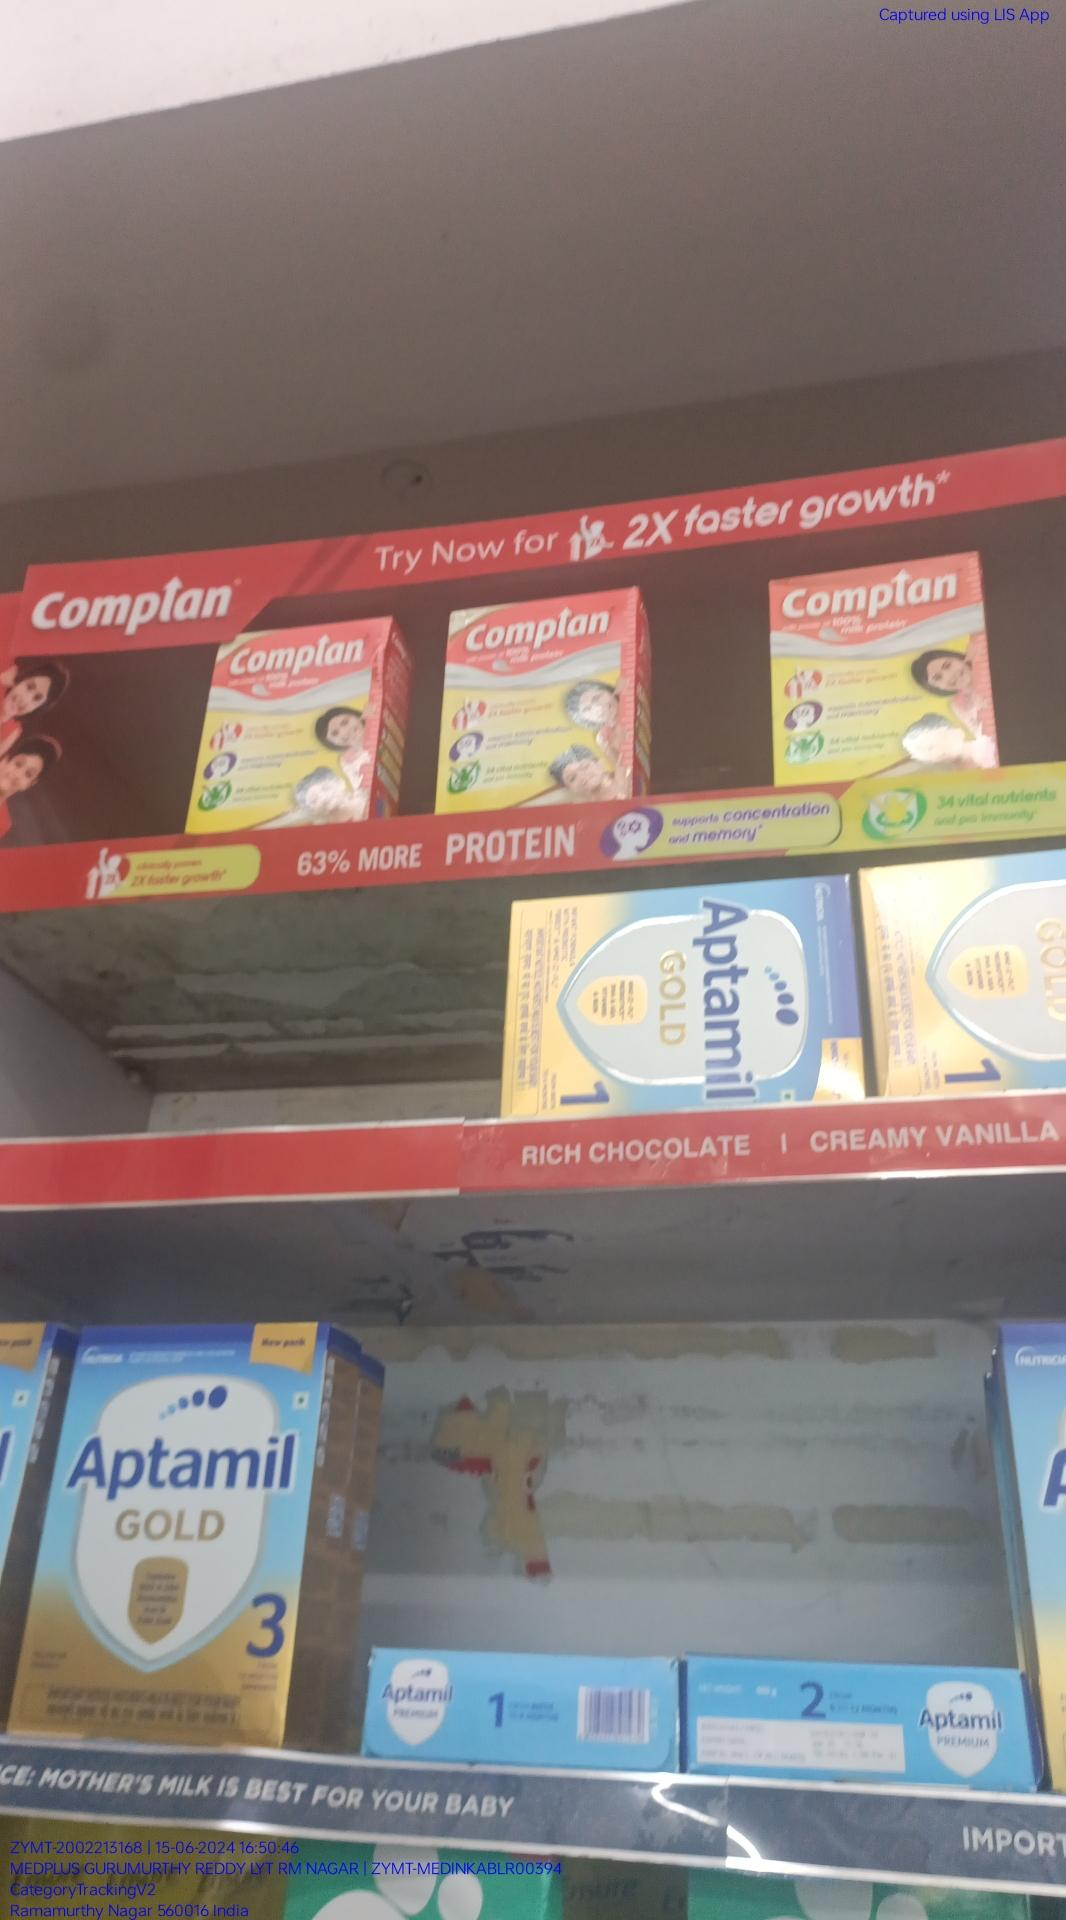COMPLAN_PISTA_BADAM_500_GMS_PACK: (442, 605, 638, 801)
